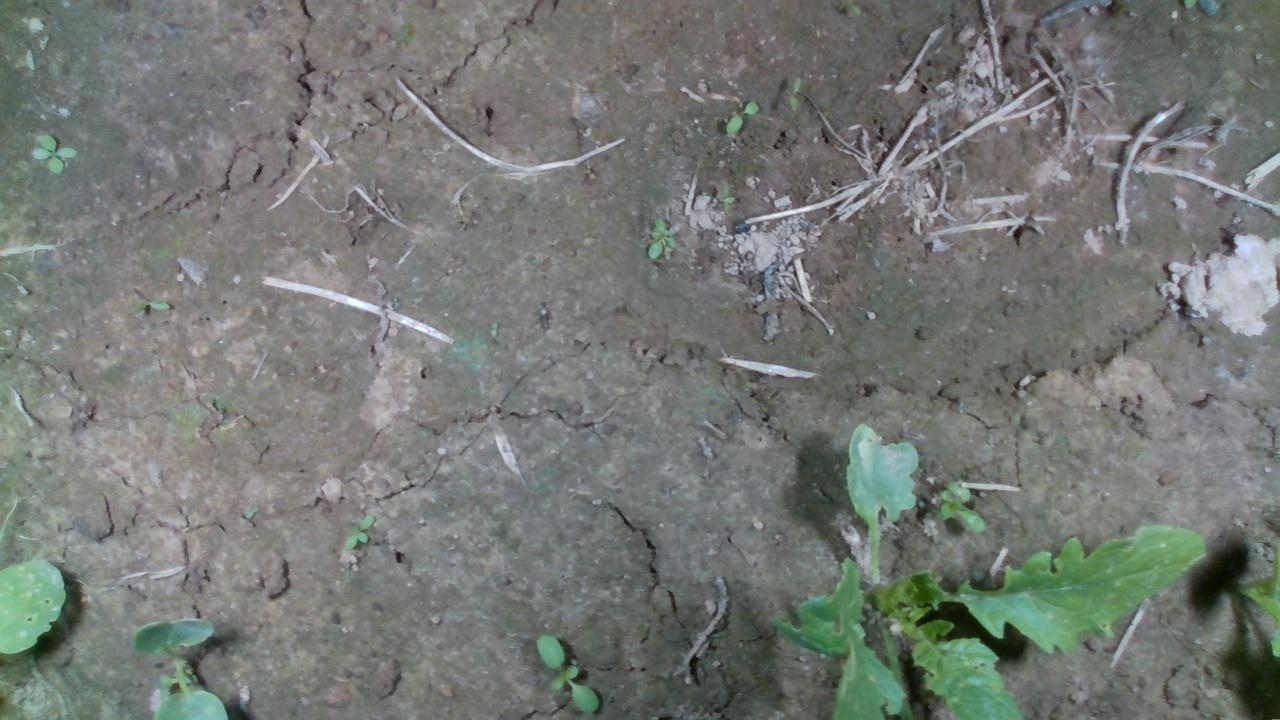weed: (534, 631, 600, 714), (28, 131, 77, 174), (723, 101, 758, 135), (343, 512, 374, 548), (787, 73, 802, 112)
